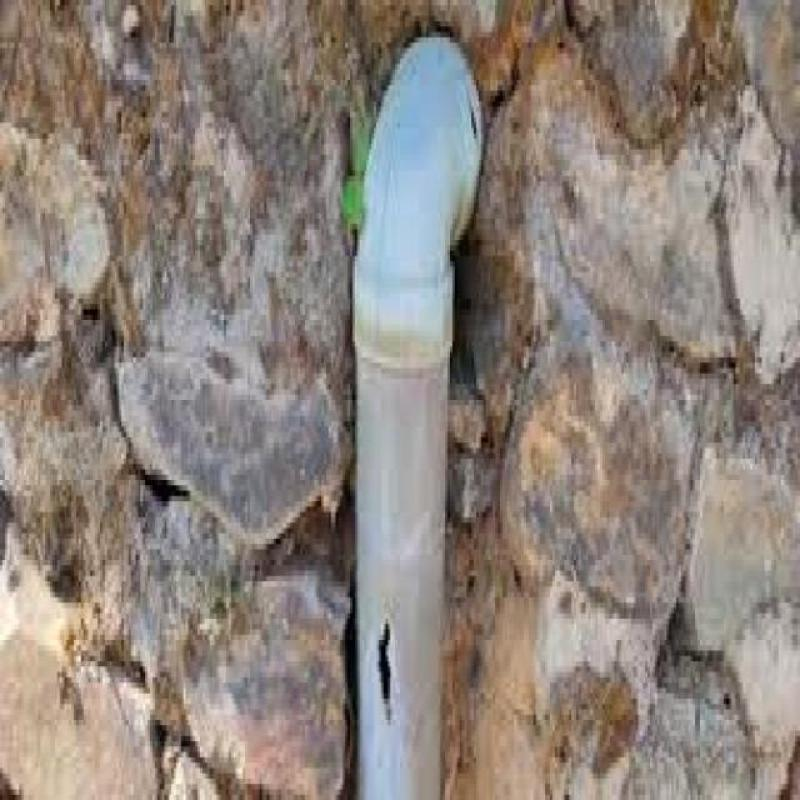Fracture: (378, 625, 400, 700)
